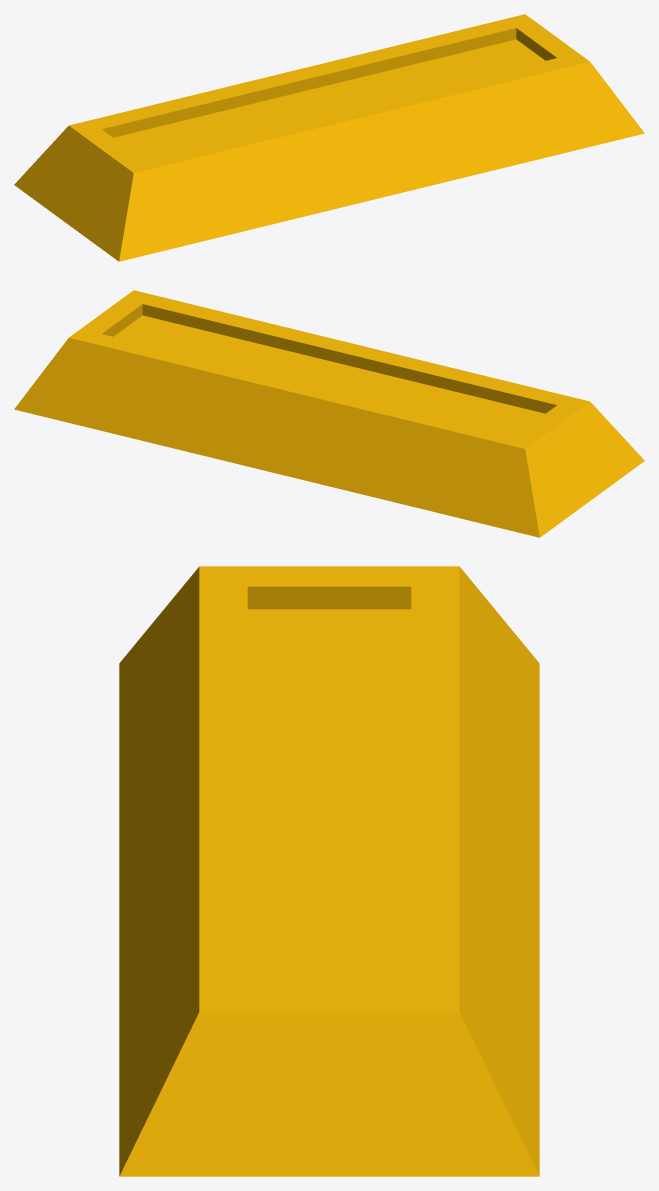
The model's file is Gold_Bar.fbx.
3 renders of one model, top to bottom at view 1: azimuth 30°, elevation 25°; view 2: azimuth 150°, elevation 25°; view 3: azimuth 270°, elevation 25°, orthographic. The views are drawn at different scales.
Visible parts, largest first — view 1: 개체_1; view 2: 개체_1; view 3: 개체_1.
Part boxes in pixels (bbox=[...]): 개체_1: bbox=[14, 14, 644, 261]; 개체_1: bbox=[14, 290, 644, 537]; 개체_1: bbox=[119, 566, 539, 1176].
Size of the model in its own units: 12.11 by 4.19 by 1.44.
